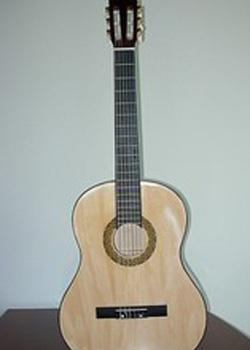guitar: (58, 1, 210, 350)
